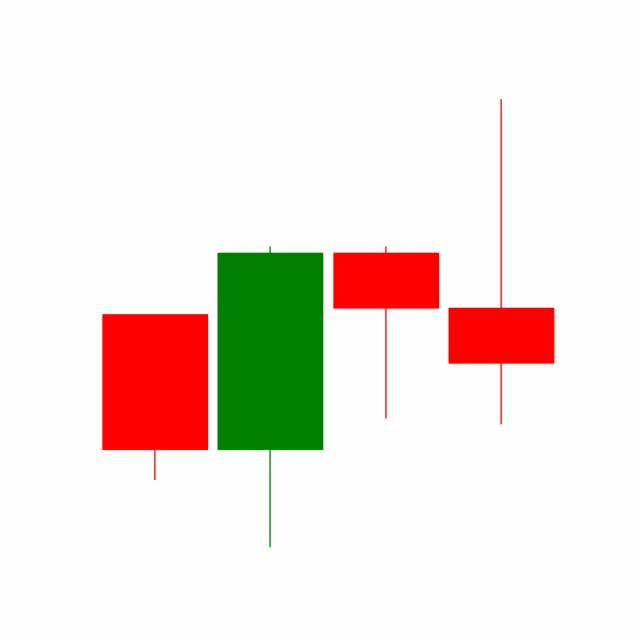Hanging Man: (328, 244, 444, 420)
